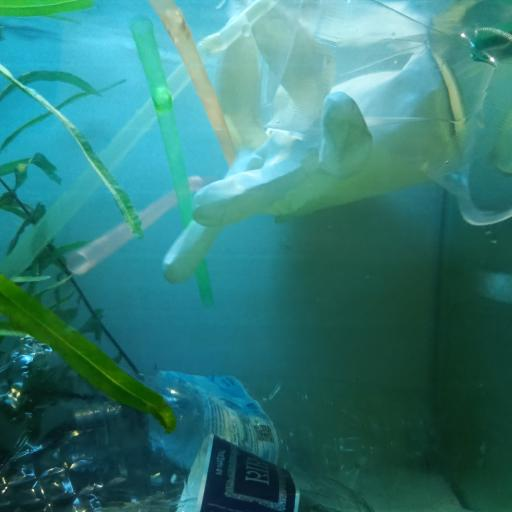glove: (164, 0, 472, 286)
plastic_bottle: (0, 336, 379, 512), (70, 368, 459, 494)
plastic_cup: (256, 0, 512, 224)
plastic_straw: (1, 0, 278, 281), (130, 14, 213, 302), (67, 178, 209, 274), (154, 0, 237, 162)
